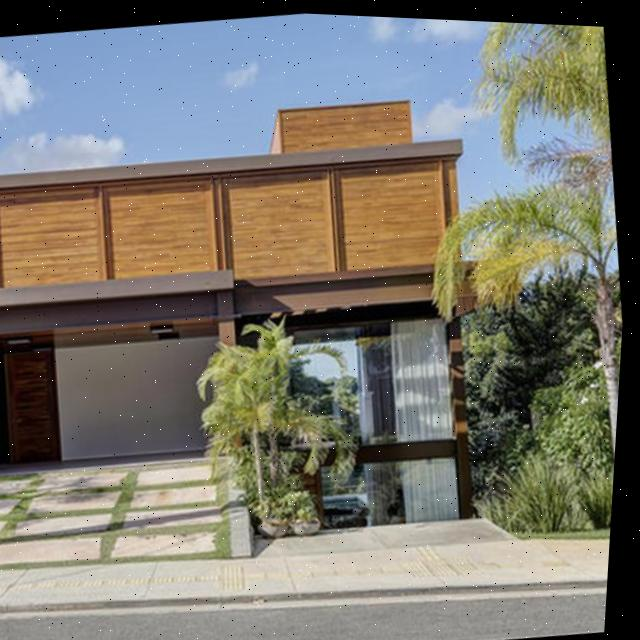building: (0, 78, 499, 576)
